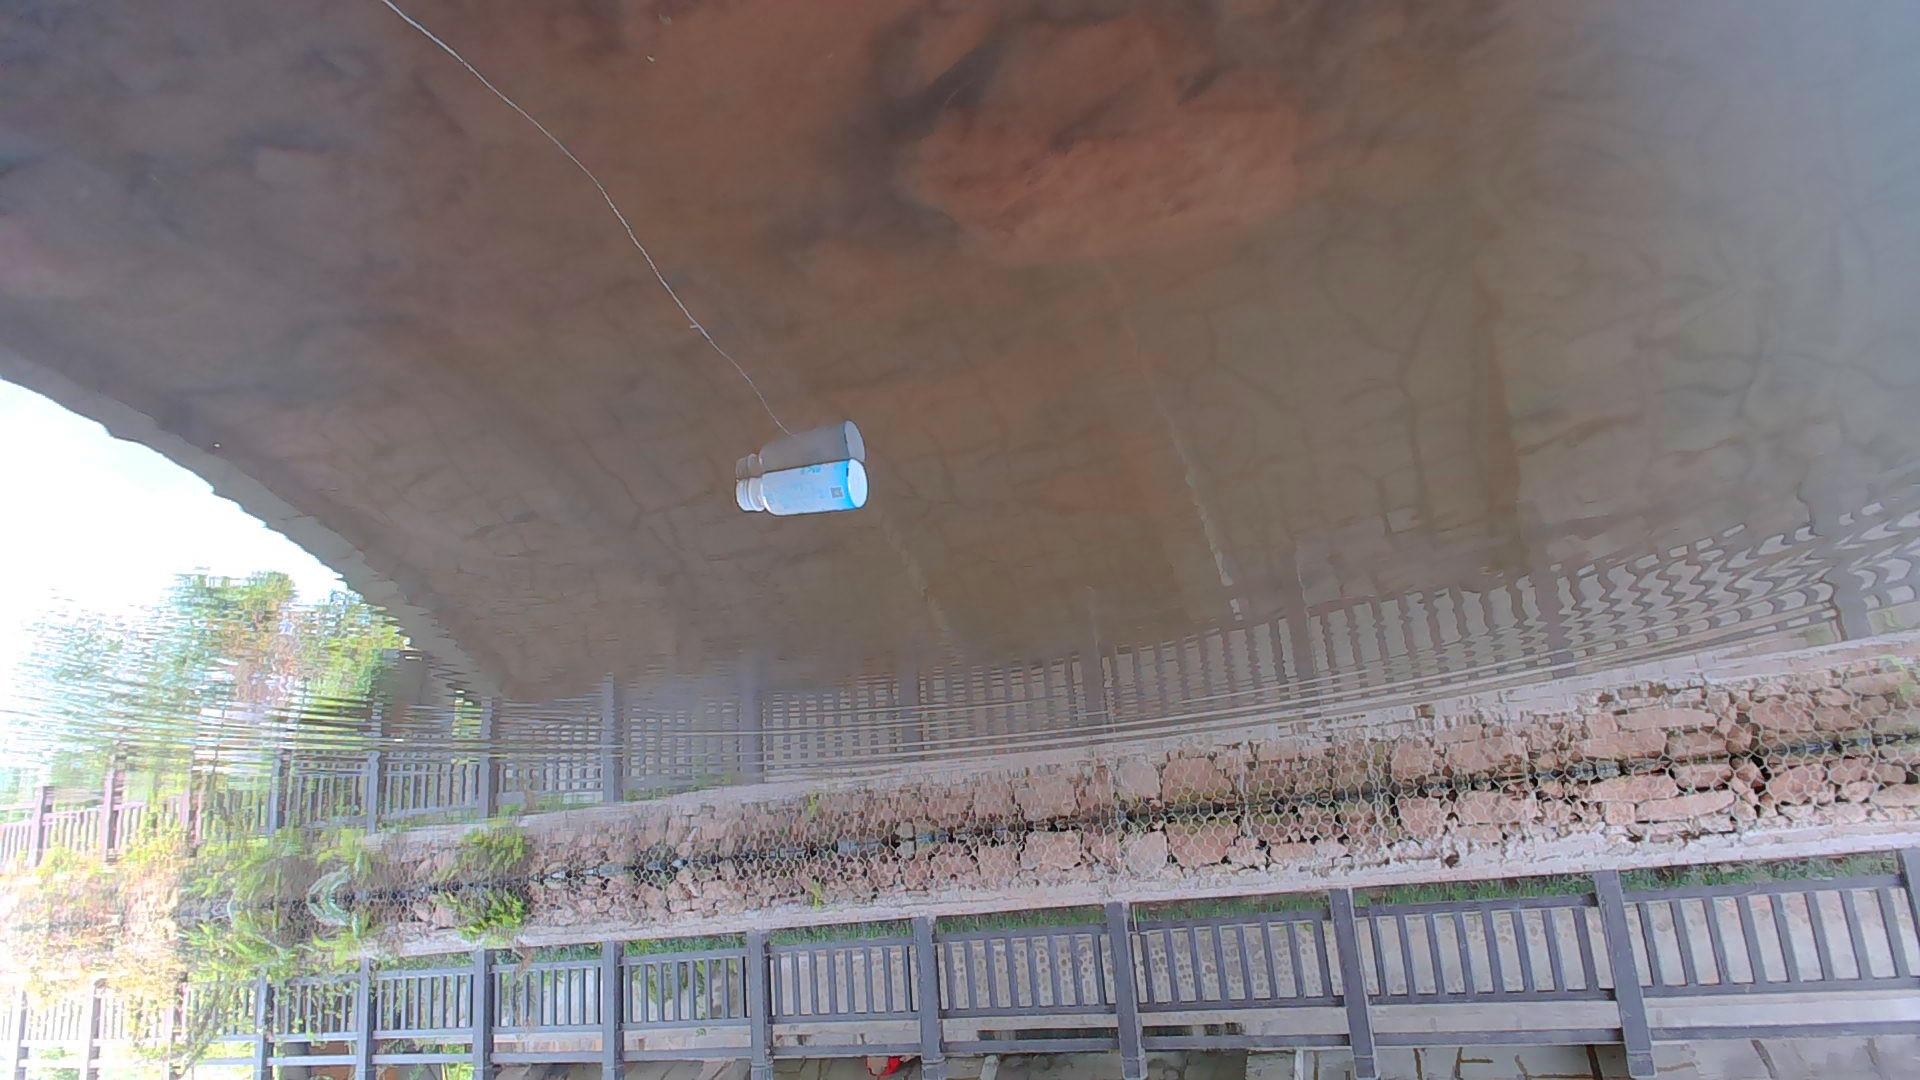Plastic: (727, 456, 876, 531)
